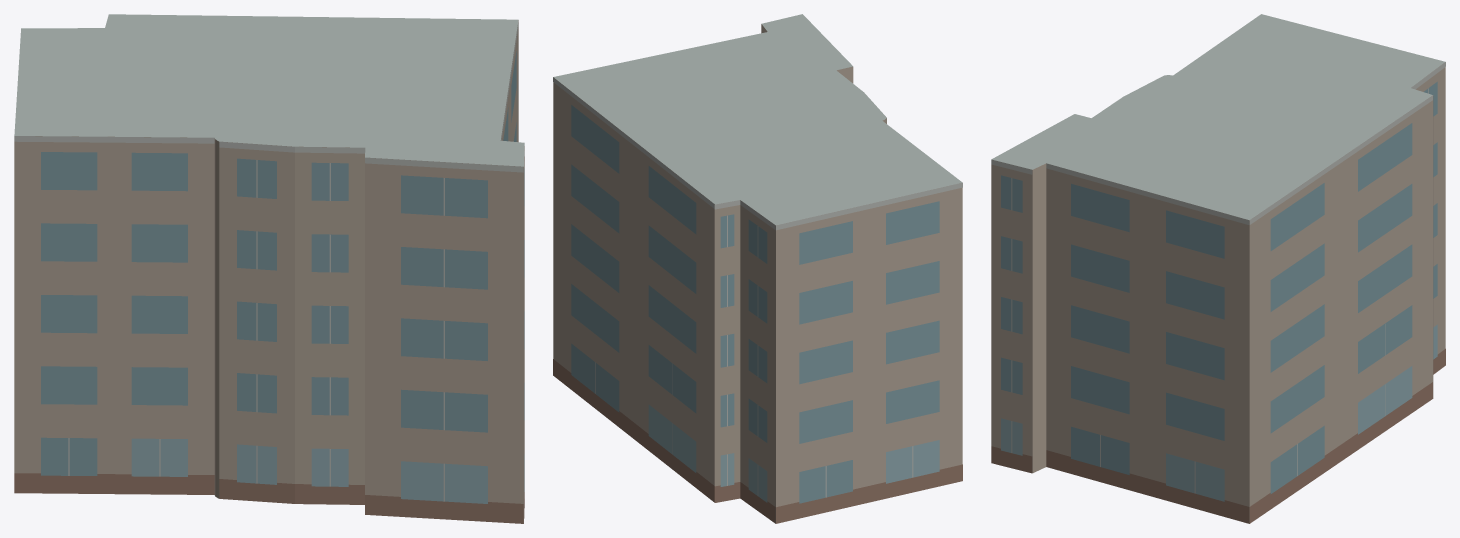
The model's file is survey-upis-32813383.glb.
3 views of the same model, side by side, from view 1: azimuth 30°, elevation 25°; view 2: azimuth 150°, elevation 25°; view 3: azimuth 270°, elevation 25° (orthographic). The views are drawn at different scales.
Visible parts, largest first — view 1: survey-upis-32813383.tmp; view 2: survey-upis-32813383.tmp; view 3: survey-upis-32813383.tmp.
Boxes of the visible parts, x1,y1,x2,y2 form: survey-upis-32813383.tmp: (14, 14, 524, 523); survey-upis-32813383.tmp: (553, 14, 962, 523); survey-upis-32813383.tmp: (991, 14, 1445, 523).
Size of the model in its own units: 21.42 by 14.7 by 19.95.
